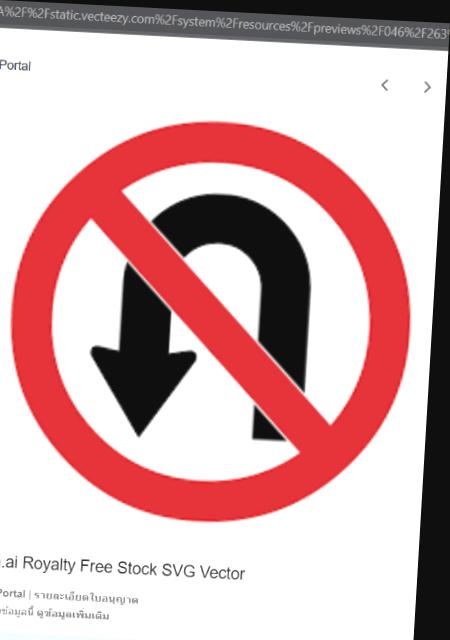not_u_turn_left: (0, 105, 434, 529)
